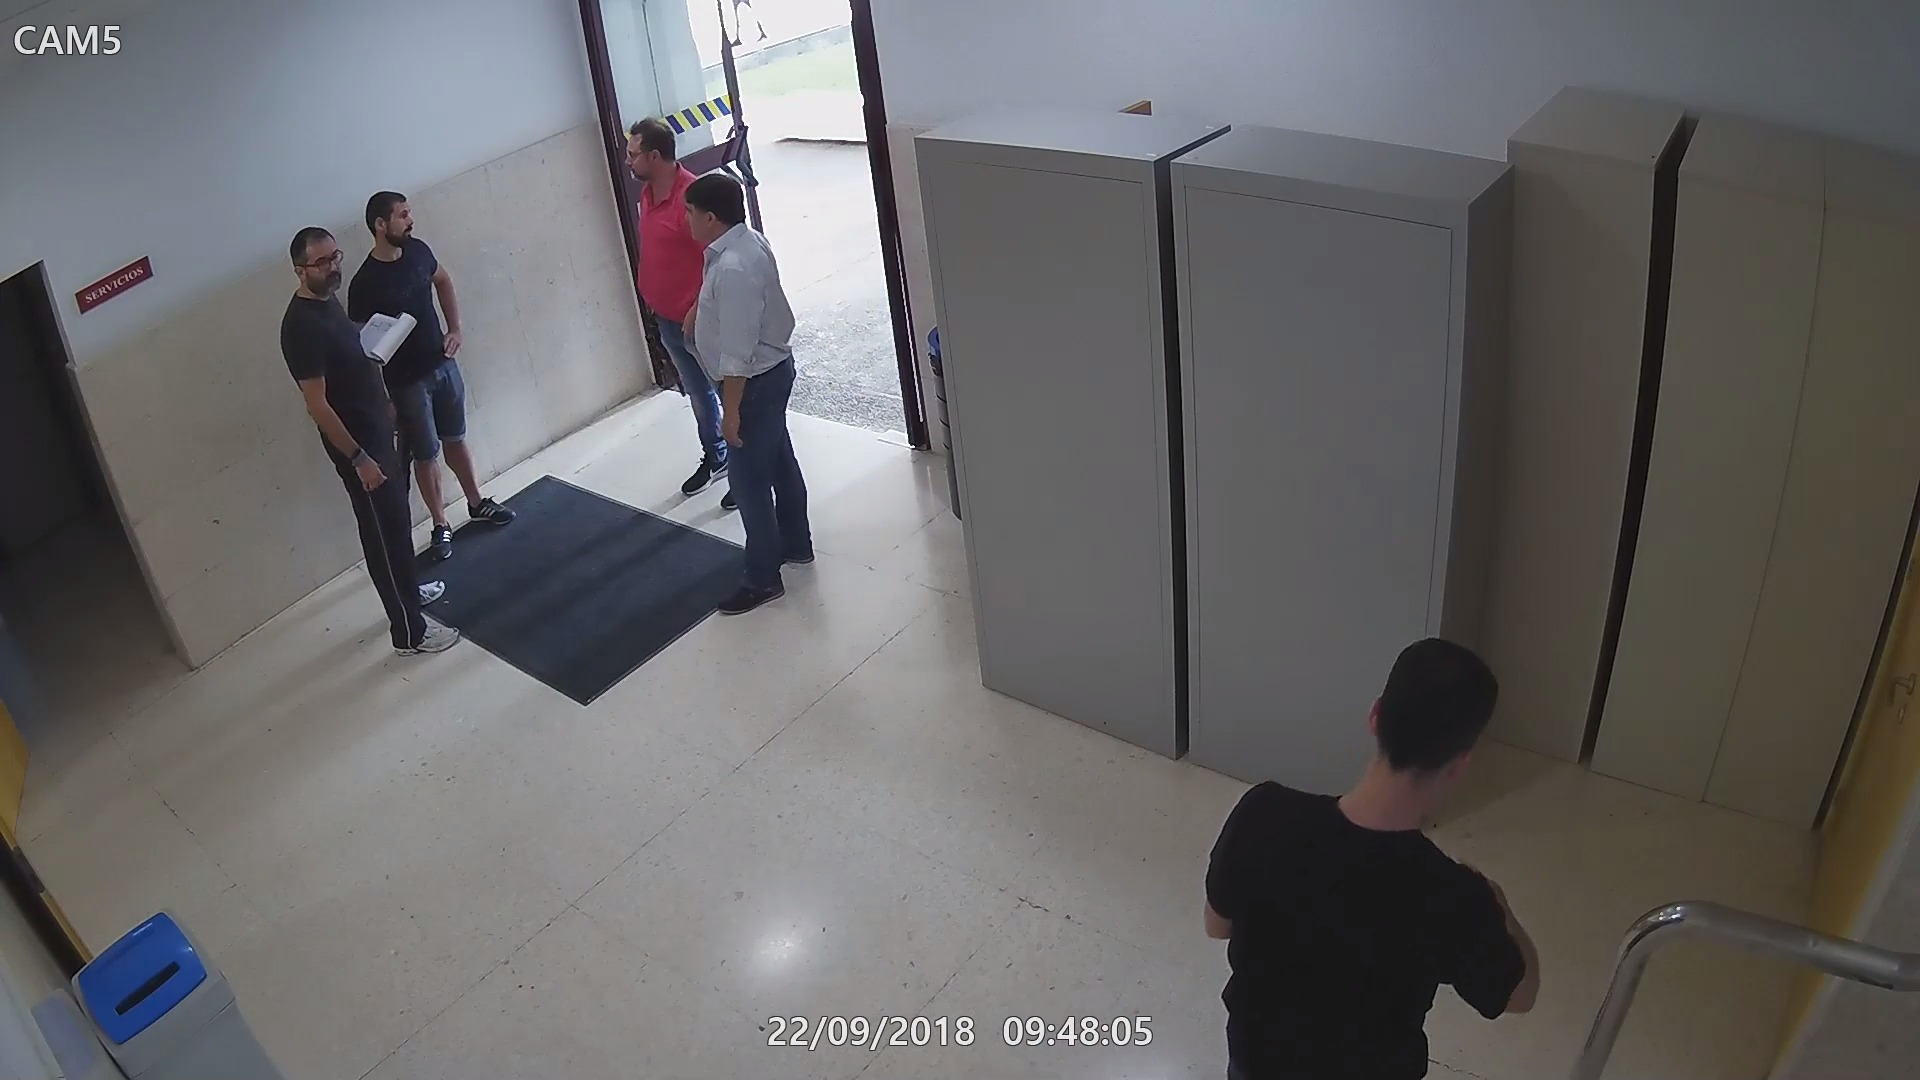Short_rifle: (640, 290, 687, 404), (384, 393, 417, 491)
